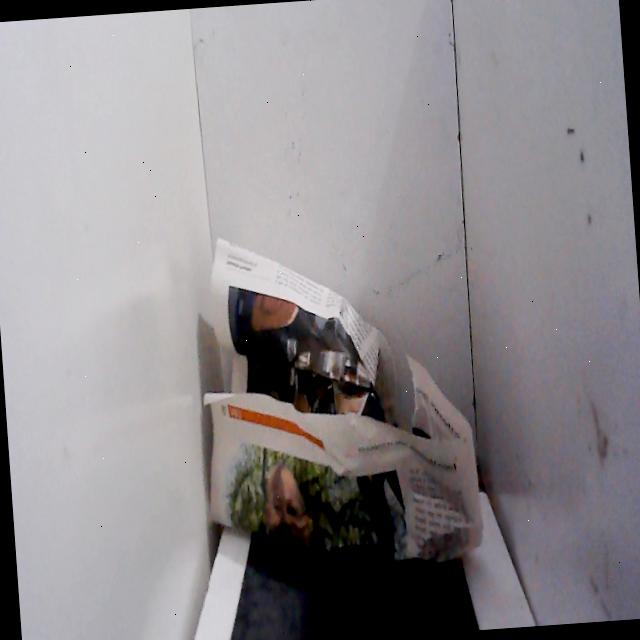papel: (178, 208, 494, 594)
